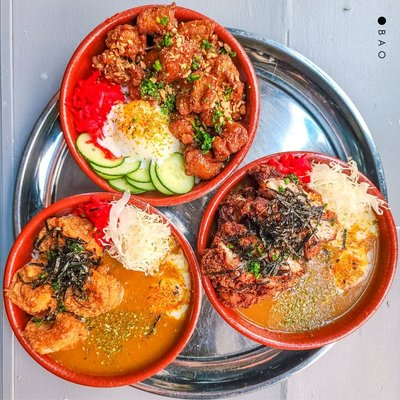sushi: (56, 1, 261, 208), (197, 149, 399, 352), (4, 189, 203, 390)
